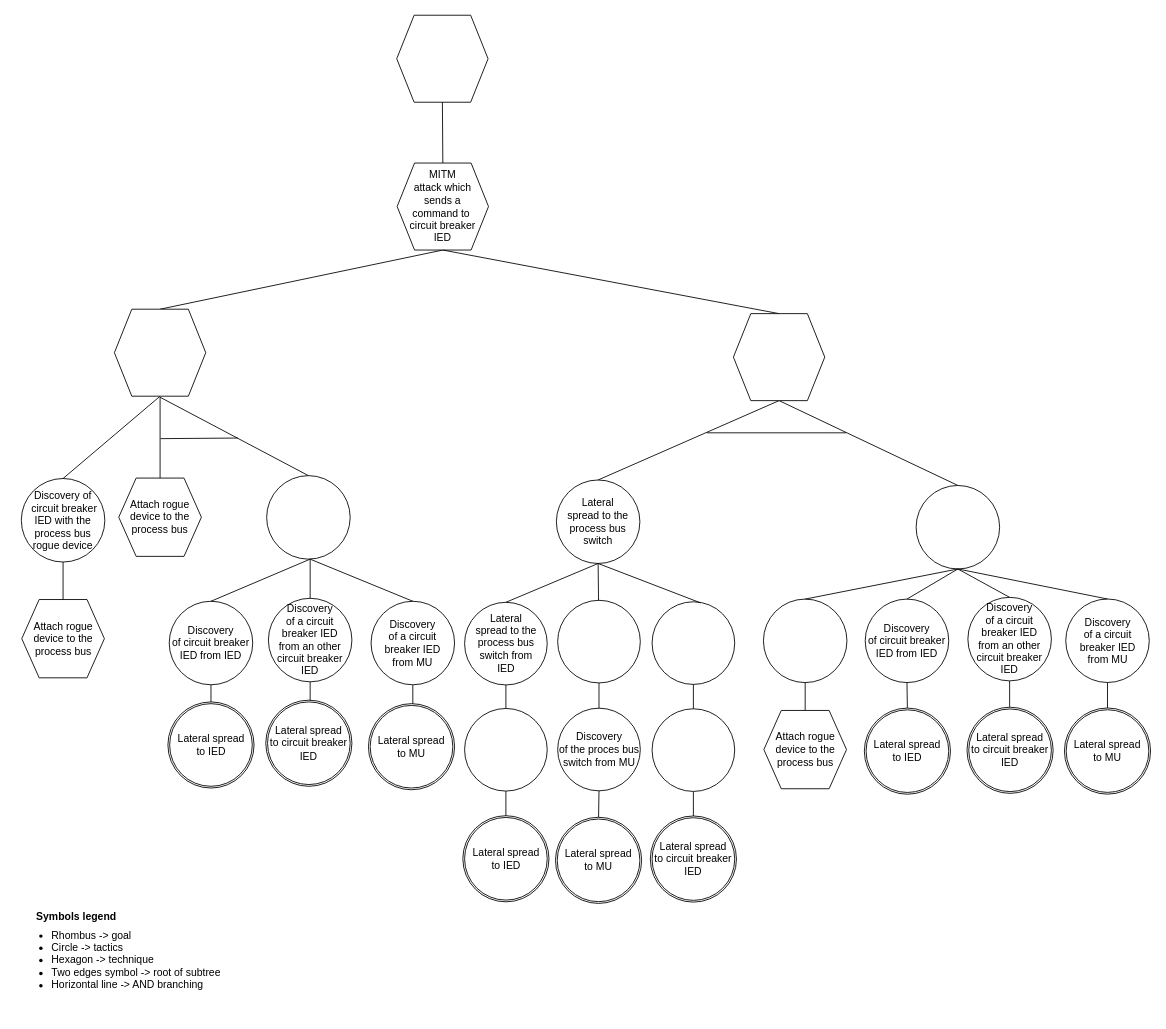
This 1166x1029 diagram has some shape labels left out. The centre of each missing label's shape, as x and y in pixels:
"Discovery of a circuit breaker IED without rogue device" goes at pixel 308 517.
"Discovery of circuit breaker IED" goes at pixel 957 527.
"Discovery of circuit breaker IED with process bus rogue device" goes at pixel 805 640.
"Discovery of the proces bus switch from IED" goes at pixel 505 749.
"Discovery of the process bus switch from circuit breaker IED" goes at pixel 693 749.
"Lateral spread to the process bus switch from circuit breaker IED" goes at pixel 693 642.
"Lateral spread to the process bus switch from MU" goes at pixel 598 641.
"MITM to circuit breaker IED from process bus switch" goes at pixel 779 357.
"MITM to circuit breaker IED with process bus rogue device" goes at pixel 160 352.
"Send a command to control element" goes at pixel 442 58.
